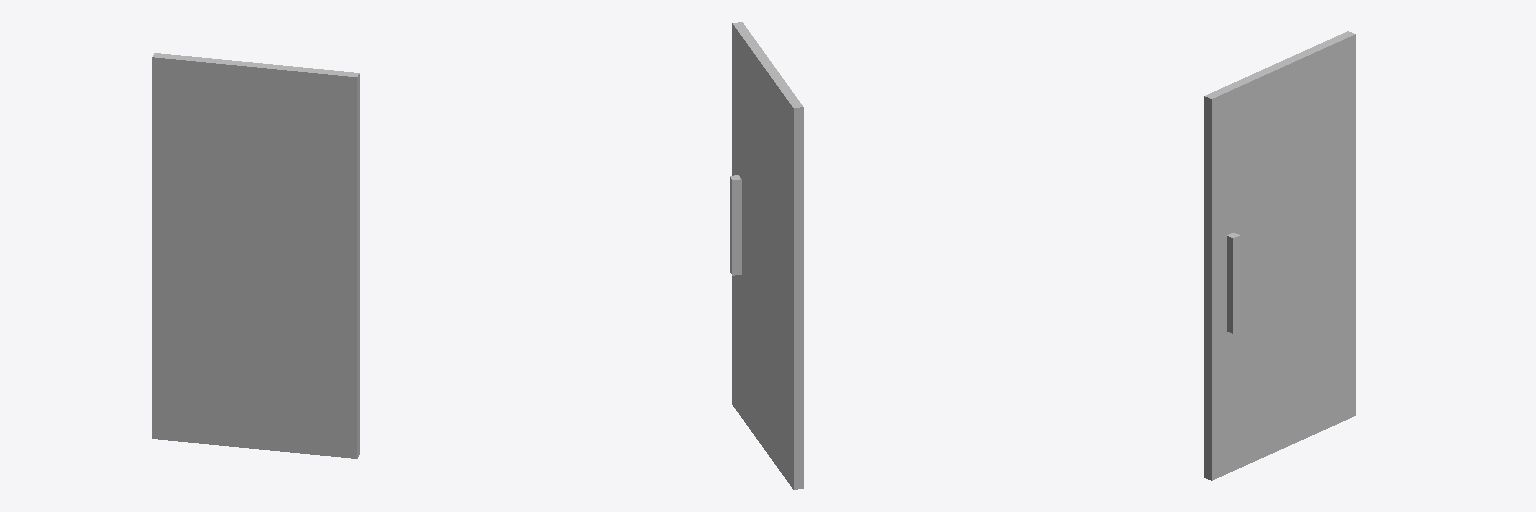
The model's file is fridge_door_open.obj.
The picture shows the model from 3 angles: view 1: azimuth 30°, elevation 25°; view 2: azimuth 150°, elevation 25°; view 3: azimuth 270°, elevation 25°; orthographic projection.
Visible parts, largest first — view 1: Cube.005_Cube.001; view 2: Cube.005_Cube.001, Cube_Cube.002; view 3: Cube.005_Cube.001, Cube_Cube.002.
Boxes of the visible parts, <box> form: Cube.005_Cube.001: <box>152,53,359,458</box>; Cube.005_Cube.001: <box>732,22,803,489</box>; Cube_Cube.002: <box>730,175,741,275</box>; Cube.005_Cube.001: <box>1204,31,1355,480</box>; Cube_Cube.002: <box>1227,233,1240,333</box>.
Size of the model in its own units: 1.53 by 4 by 1.44.